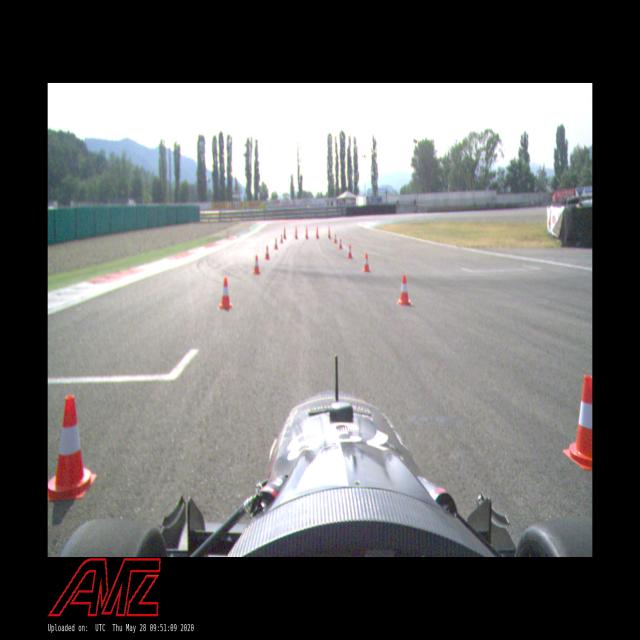large_orange_cone: (326, 226, 332, 239), (315, 226, 320, 239), (282, 226, 286, 239), (294, 226, 298, 239), (305, 227, 309, 240)
orange_cone: (48, 396, 97, 500), (563, 375, 592, 470), (217, 276, 233, 310), (398, 274, 412, 306), (252, 255, 260, 275), (362, 253, 370, 272), (264, 245, 270, 260), (347, 244, 353, 258), (338, 238, 343, 250), (333, 234, 338, 244), (274, 238, 278, 250), (280, 234, 283, 244)
